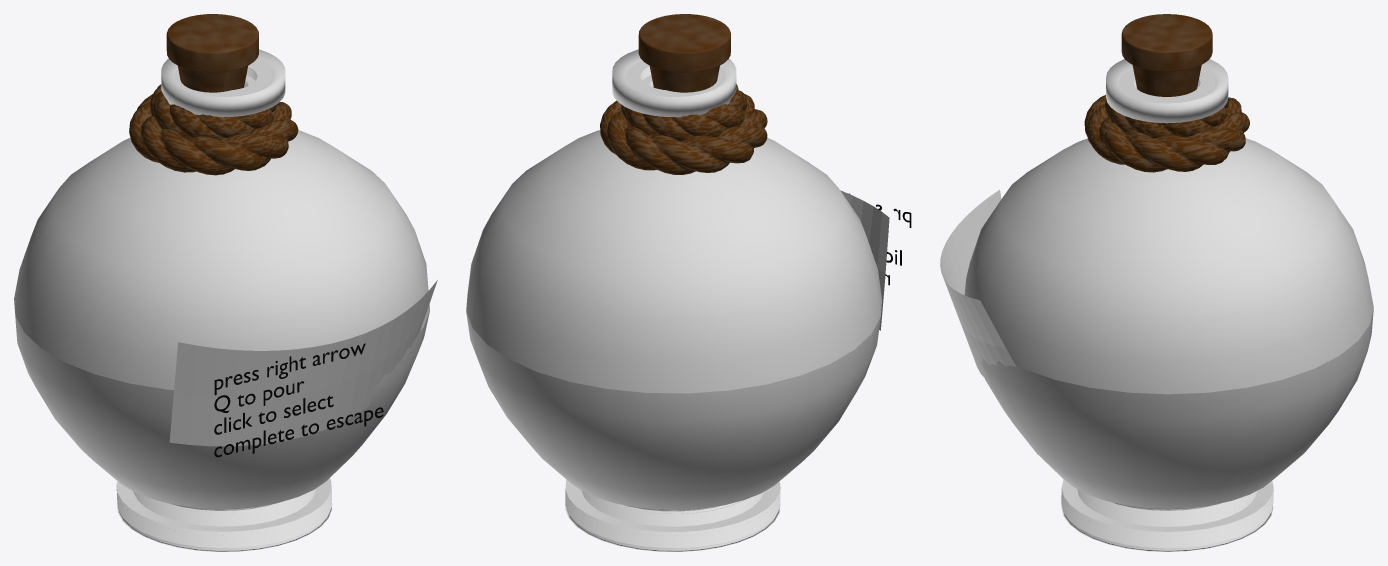
The model's file is potion1.fbx.
3 renders of one model, left to right at view 1: azimuth 30°, elevation 25°; view 2: azimuth 150°, elevation 25°; view 3: azimuth 270°, elevation 25°, orthographic.
Parts seen in each view (by area): view 1: Sphere, Plane.001, Circle.002, Sphere.002, Text, Circle.001; view 2: Sphere, Circle.002, Sphere.002, Circle.001, Plane.001; view 3: Sphere, Circle.002, Sphere.002, Plane.001, Circle.001.
Part boxes in pixels (bbox=[...]): Sphere: bbox=[14, 49, 429, 551]; Plane.001: bbox=[169, 280, 437, 446]; Circle.002: bbox=[129, 94, 298, 175]; Sphere.002: bbox=[166, 14, 258, 92]; Text: bbox=[214, 343, 383, 457]; Circle.001: bbox=[150, 84, 276, 140]; Sphere: bbox=[466, 49, 881, 551]; Circle.002: bbox=[600, 94, 767, 174]; Sphere.002: bbox=[638, 14, 730, 92]; Circle.001: bbox=[621, 84, 747, 141]; Plane.001: bbox=[840, 190, 889, 330]; Sphere: bbox=[964, 59, 1373, 551]; Circle.002: bbox=[1084, 95, 1249, 172]; Sphere.002: bbox=[1121, 14, 1212, 96]; Plane.001: bbox=[940, 189, 1016, 381]; Circle.001: bbox=[1105, 98, 1228, 138].
Size of the model in its own units: 200 by 252 by 211.
Materials: 5 (1 with a texture image).
